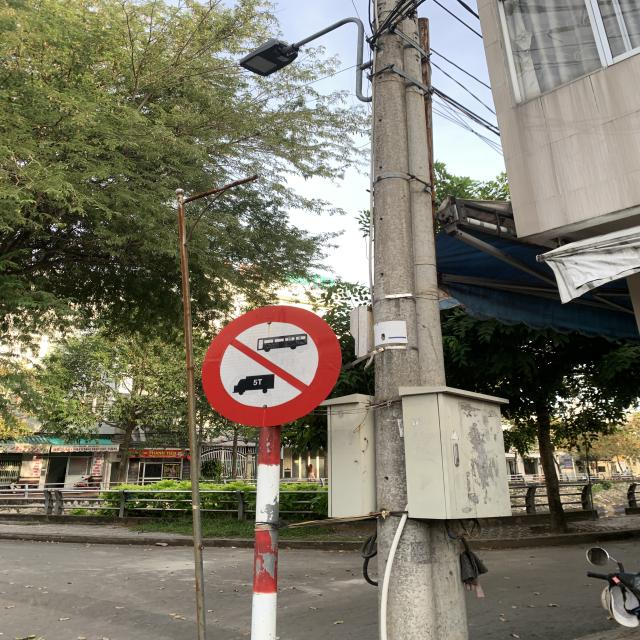Cam_XeTai_XeKhach: (202, 302, 338, 422)
